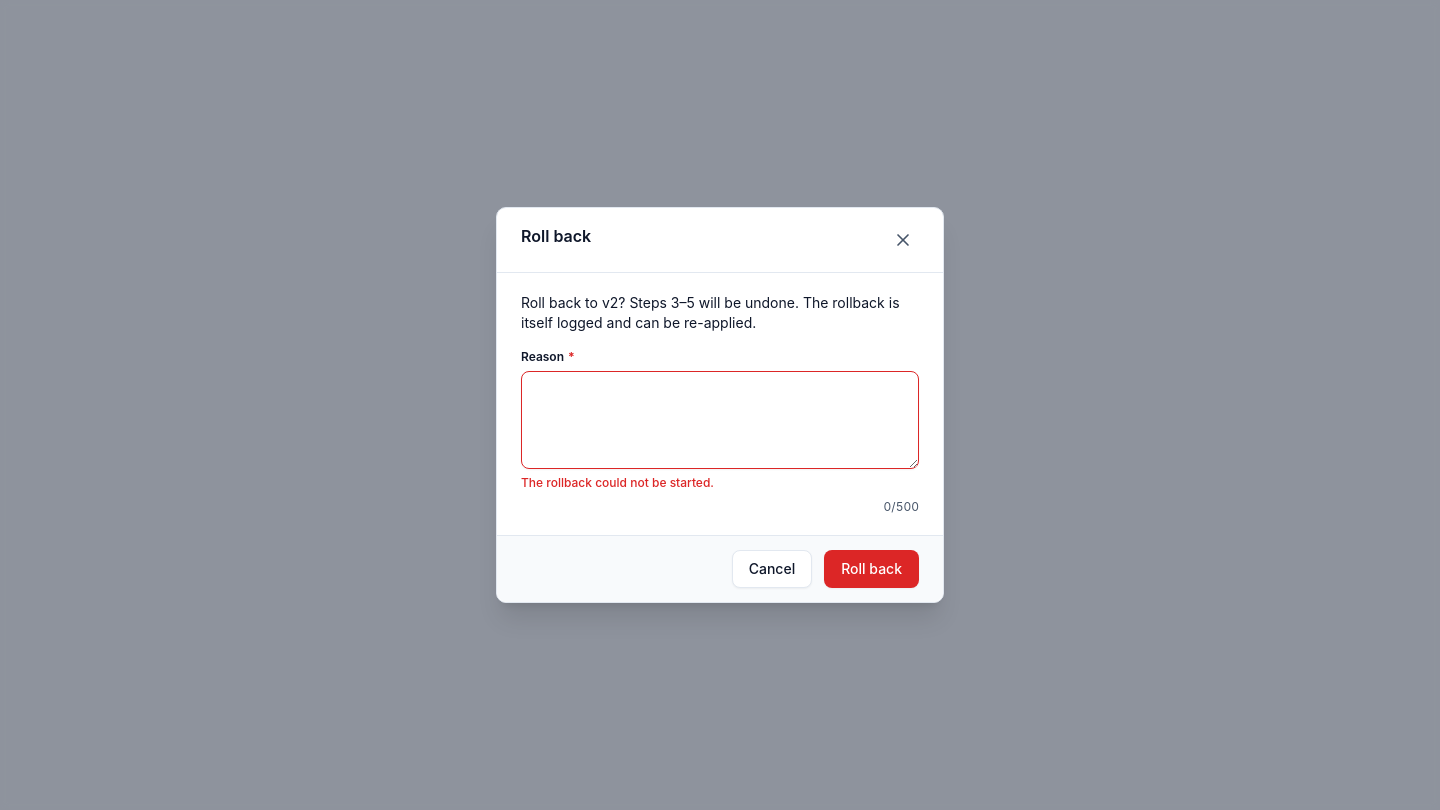
Test case: RollbackModal reason validation › prefers the local error over the server error
The image size is (1440, 810).
Click the button "Roll back".
click(872, 569)  # box [824,550,919,588]
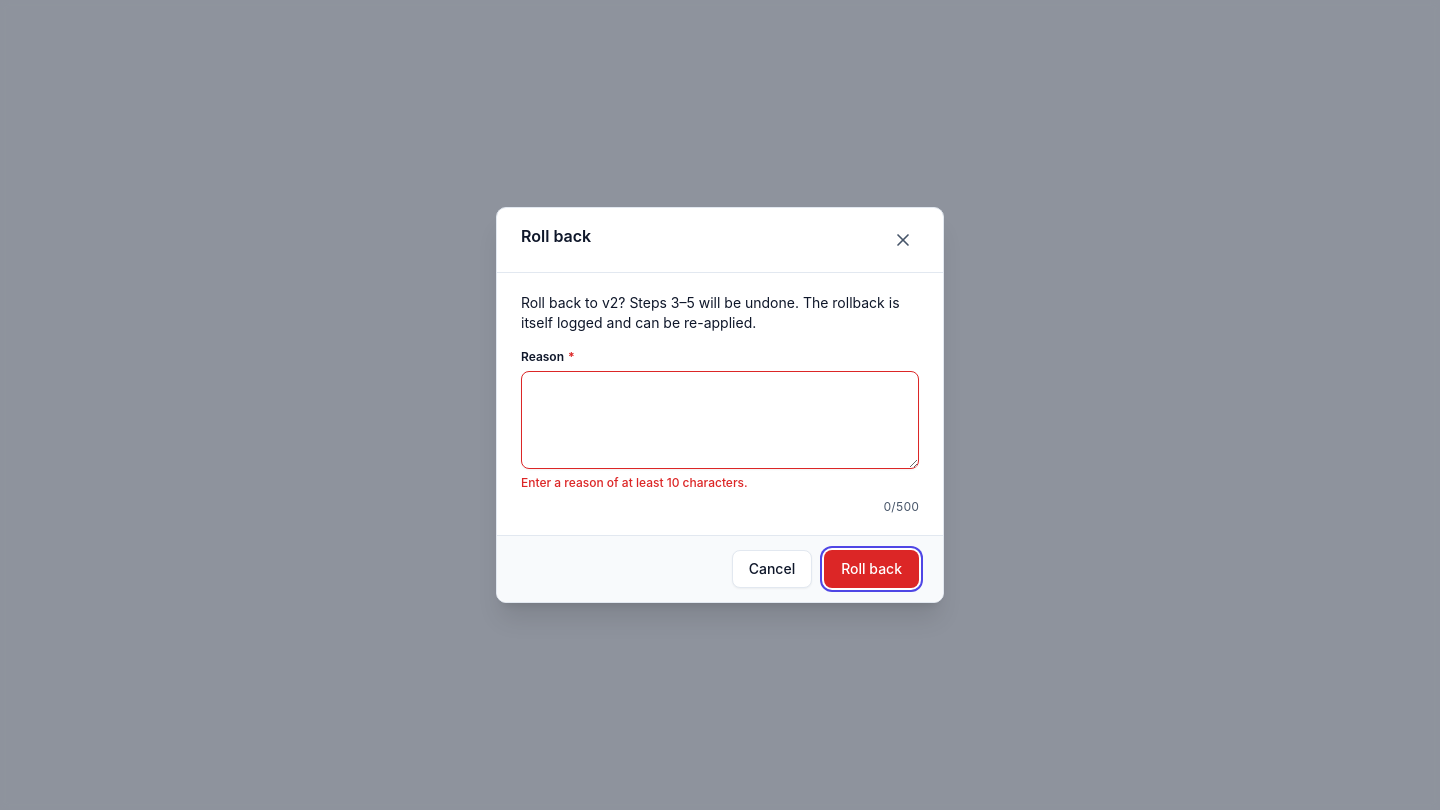
Expected: the message reads "Enter a reason of at least 10 characters.", [521,475,748,490]
